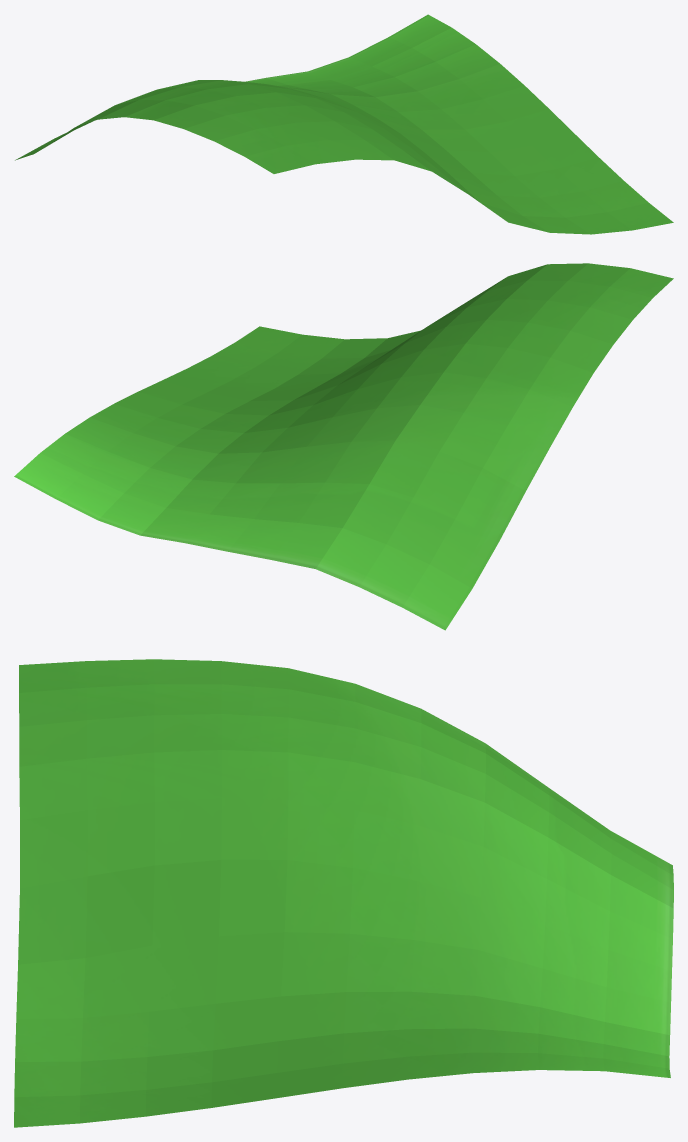
File: ground_2_0.glb
3 views of the same model, one above another, from view 1: azimuth 30°, elevation 25°; view 2: azimuth 150°, elevation 25°; view 3: azimuth 270°, elevation 25° (orthographic). The views are drawn at different scales.
Visible parts, largest first — view 1: Ground_0_0; view 2: Ground_0_0; view 3: Ground_0_0.
Part boxes in pixels (x1,y1,x2,y2): Ground_0_0: (15,14,673,234); Ground_0_0: (14,263,673,630); Ground_0_0: (14,659,673,1127).
Size of the model in its own units: 93.5 by 33.02 by 91.52.
Materials: 1 (1 with a texture image).
